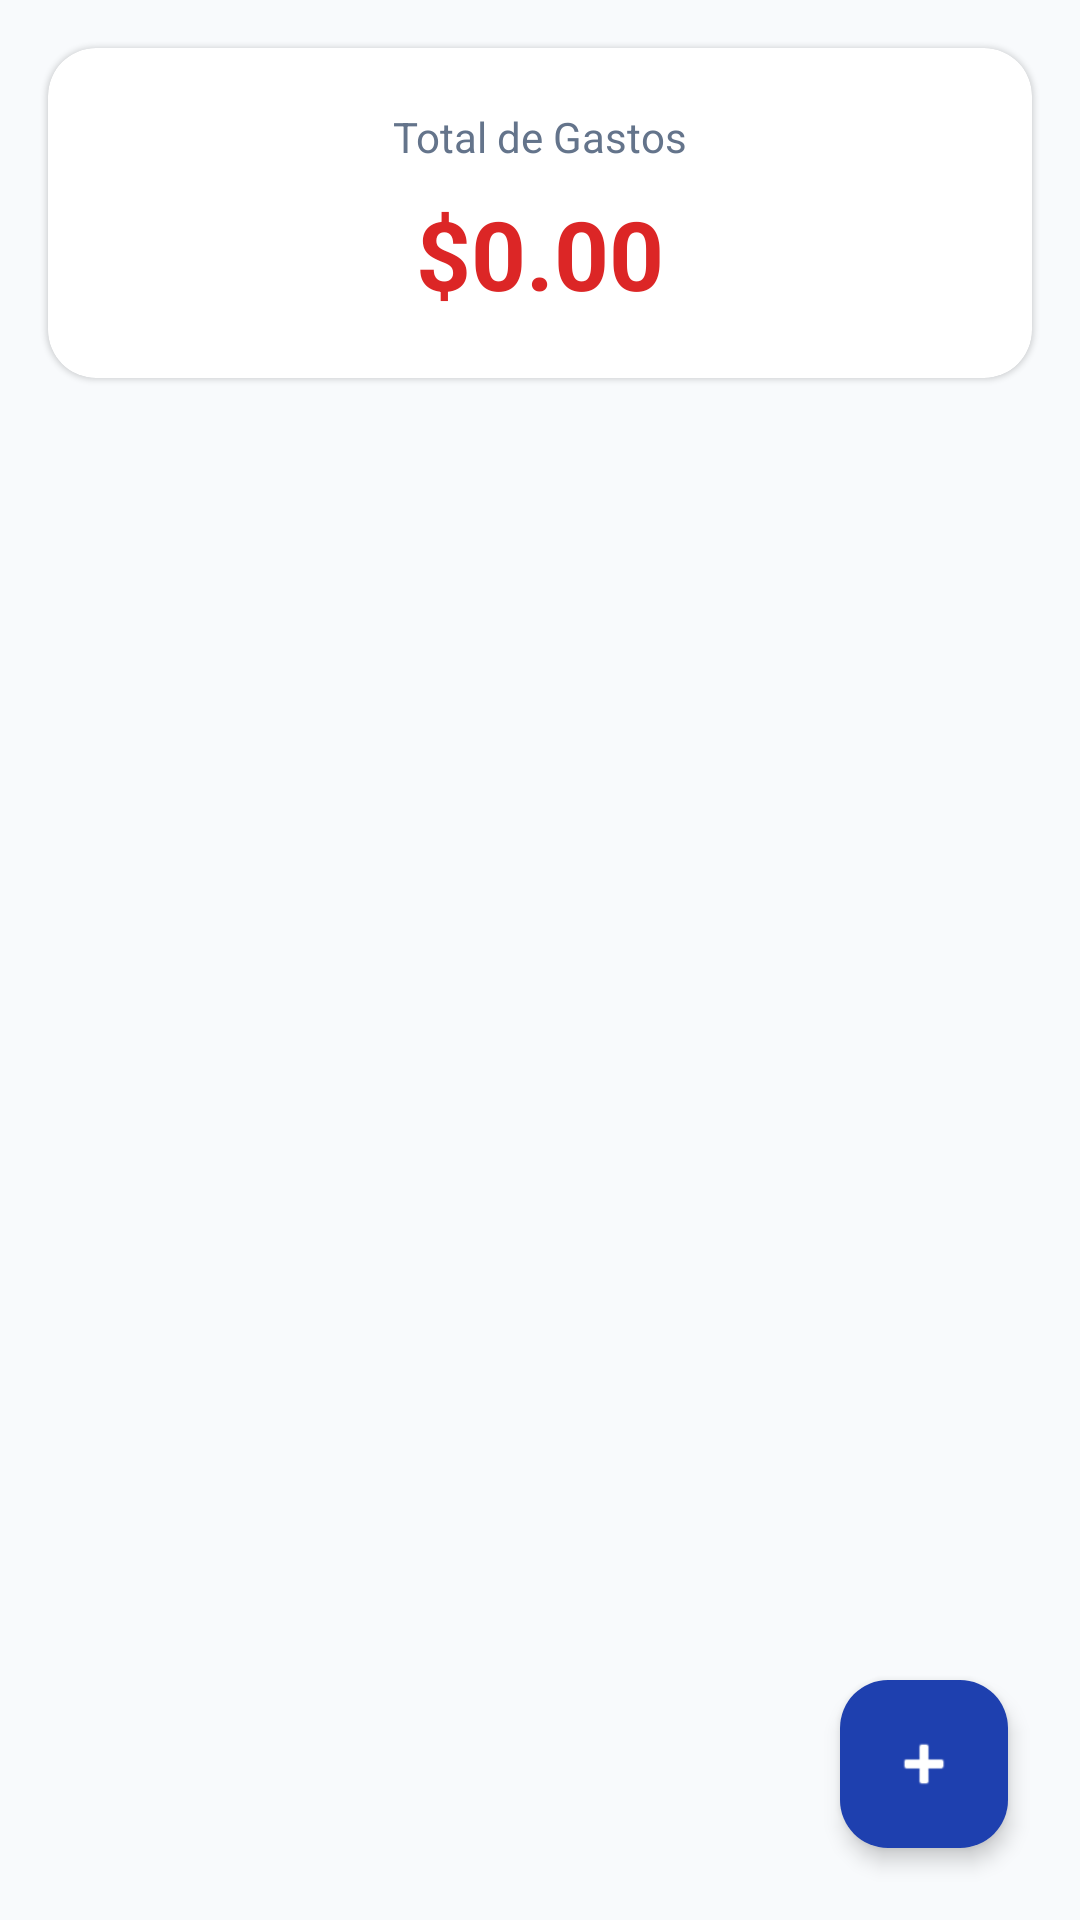

Point at icon controls on the screen. Image size 1080x1920, points as (x,y).
Agregar gasto: (924,1764)
